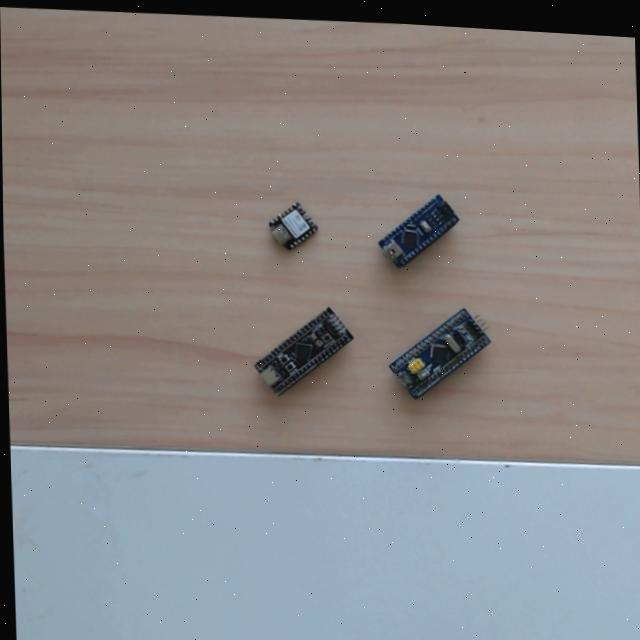Arduino-Nano: (372, 186, 462, 270)
ESP32C3-Xiao: (260, 195, 322, 257)
STM32-Blackpill: (248, 301, 357, 396)
STM32-Bluepill: (383, 299, 494, 402)
